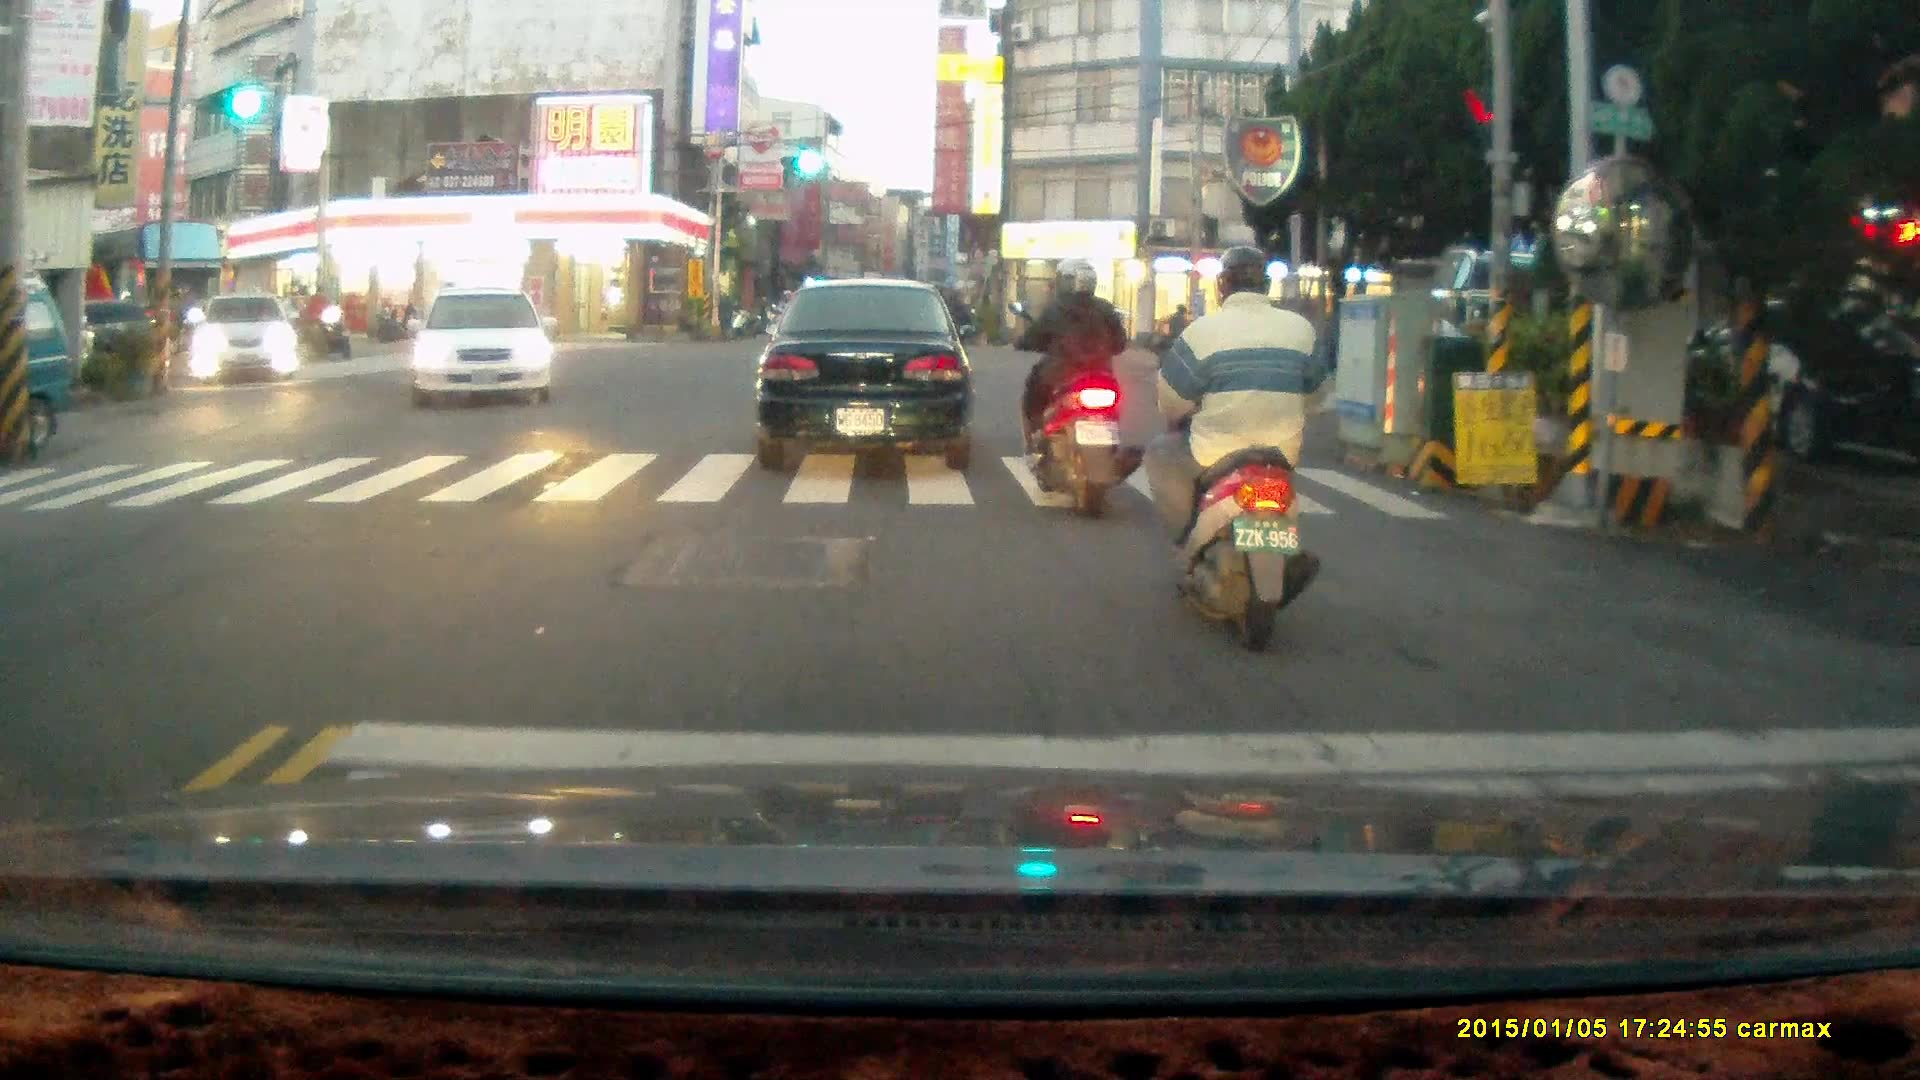rider: (1142, 241, 1325, 642), (1003, 259, 1139, 523), (300, 280, 351, 363), (1154, 300, 1190, 370)
vehicle: (1622, 292, 1920, 466), (756, 277, 974, 475), (411, 288, 559, 408), (1, 285, 82, 460), (190, 291, 302, 385)
